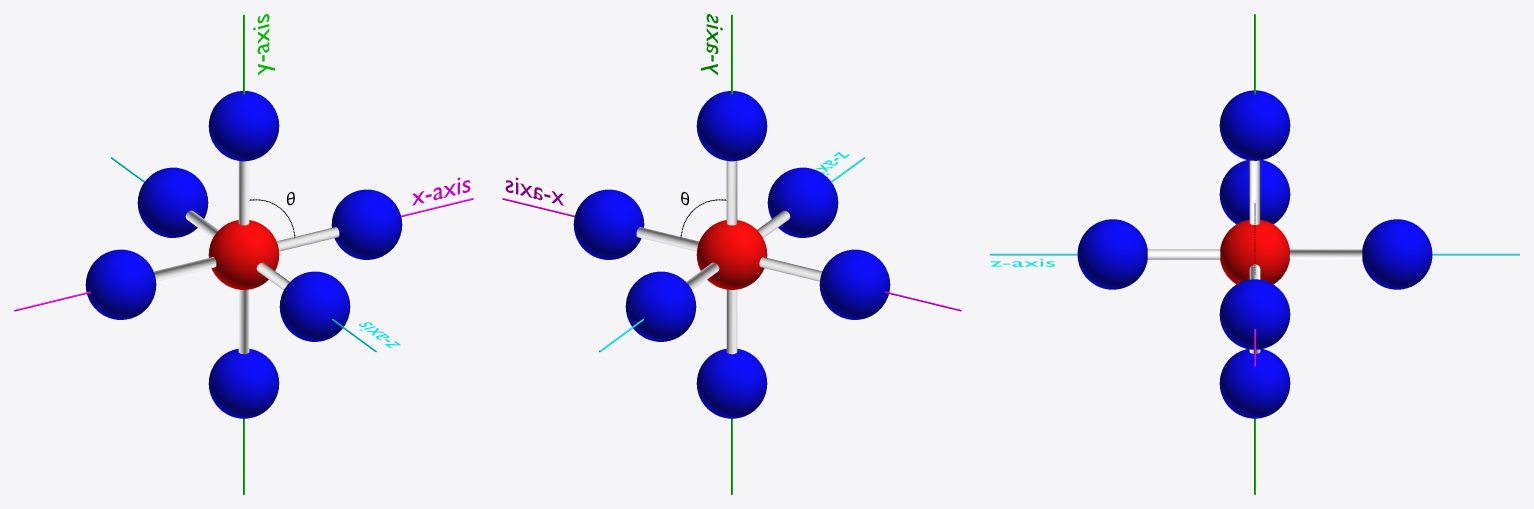
3 views of the same model, side by side, from view 1: azimuth 30°, elevation 25°; view 2: azimuth 150°, elevation 25°; view 3: azimuth 270°, elevation 25° (orthographic).
Visible parts, largest first — view 1: 1 octahedral; view 2: 1 octahedral; view 3: 1 octahedral.
Boxes of the visible parts, box(x1,y1,x2,y2) form: 1 octahedral: box(85, 91, 402, 418); 1 octahedral: box(573, 91, 890, 418); 1 octahedral: box(1077, 90, 1432, 418).
Bounding box in the file's own units: 6 × 6 × 6.
Materials: 11 (1 with a texture image).
